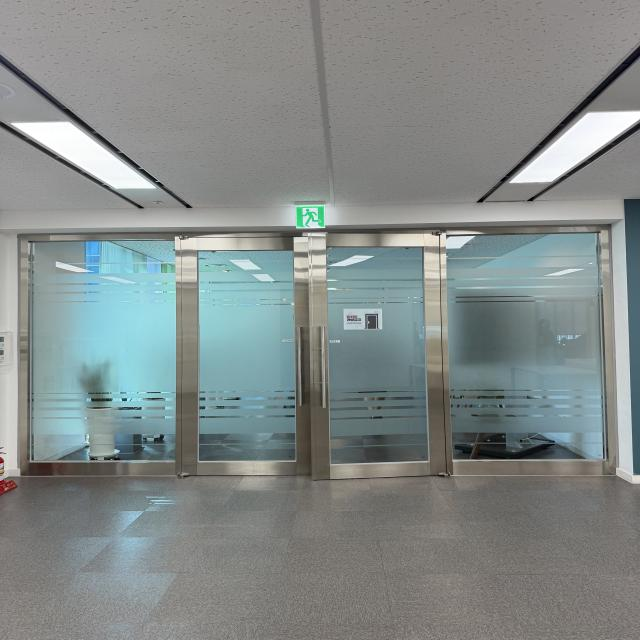front_door: (22, 230, 613, 479)
